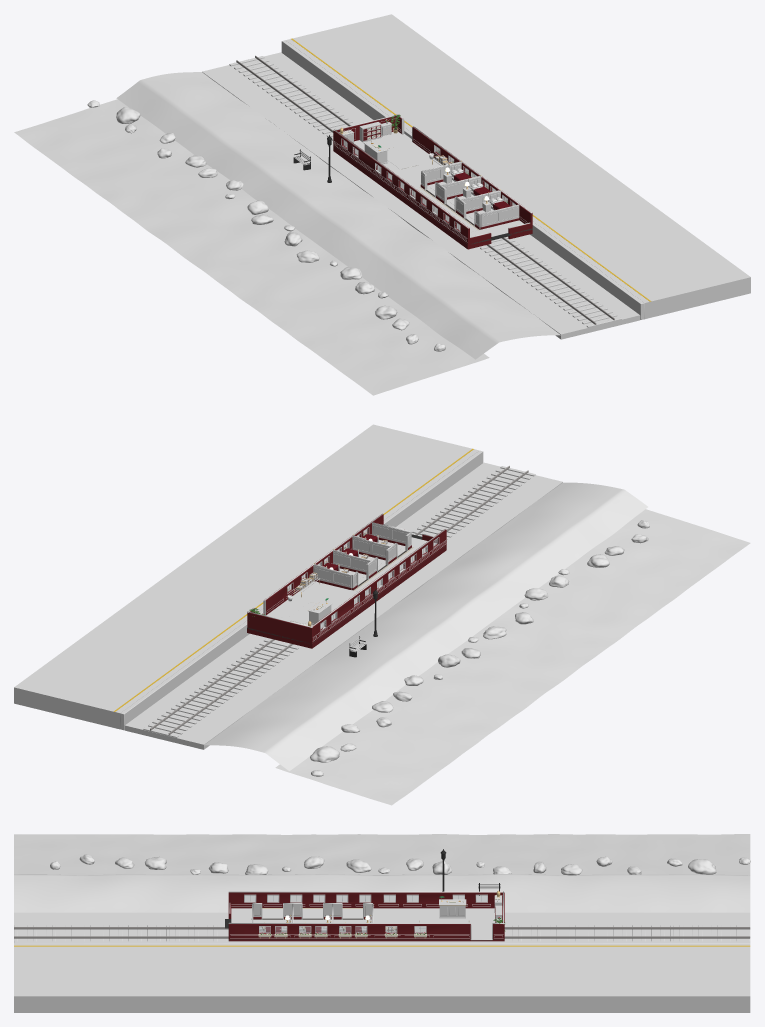
The picture shows the model from 3 angles, top to bottom: view 1: azimuth 30°, elevation 25°; view 2: azimuth 150°, elevation 25°; view 3: azimuth 270°, elevation 25°; orthographic projection. The views are drawn at different scales.
Parts seen in each view (by area): view 1: env, carriage; view 2: env, carriage; view 3: env, carriage, glass.
Part boxes in pixels (x1,y1,x2,y2): env: [14, 14, 750, 395]; carriage: [333, 114, 532, 249]; env: [14, 424, 750, 805]; carriage: [247, 513, 446, 648]; env: [14, 834, 750, 1012]; carriage: [225, 890, 504, 941]; glass: [245, 895, 486, 932].
Size of the model in its own units: 29.15 by 4.97 by 48.05.
